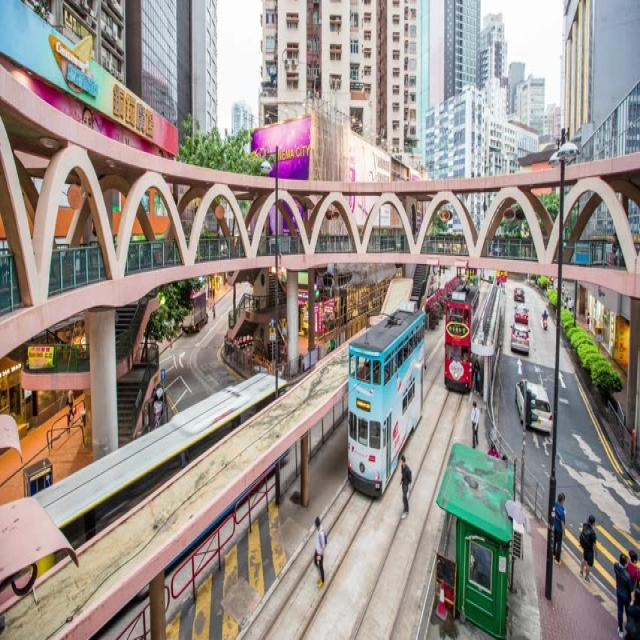body: (612, 550, 636, 638), (578, 512, 598, 584), (312, 514, 328, 590), (552, 491, 566, 566), (362, 359, 396, 385), (399, 453, 412, 520), (624, 582, 639, 638), (486, 440, 499, 493), (80, 101, 102, 131), (625, 548, 640, 587), (470, 399, 480, 449), (468, 552, 482, 584), (64, 386, 76, 422), (473, 359, 482, 397), (370, 420, 380, 449), (448, 350, 468, 362), (584, 310, 592, 334), (540, 308, 549, 328), (396, 347, 403, 369), (408, 337, 416, 356), (402, 343, 409, 364), (456, 314, 468, 326), (156, 146, 167, 158), (567, 296, 573, 317), (418, 328, 424, 343), (571, 294, 575, 314), (500, 452, 507, 463), (561, 281, 565, 300), (212, 301, 216, 319), (564, 297, 568, 315), (414, 332, 418, 348), (208, 285, 212, 300), (212, 305, 216, 320), (211, 285, 215, 299)
